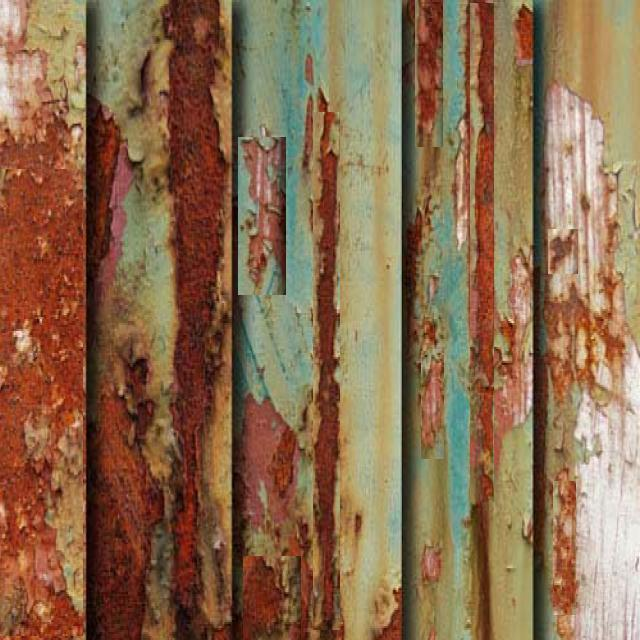Corrosion: (0, 94, 84, 640), (164, 0, 227, 640), (438, 2, 497, 640), (301, 110, 340, 640)
